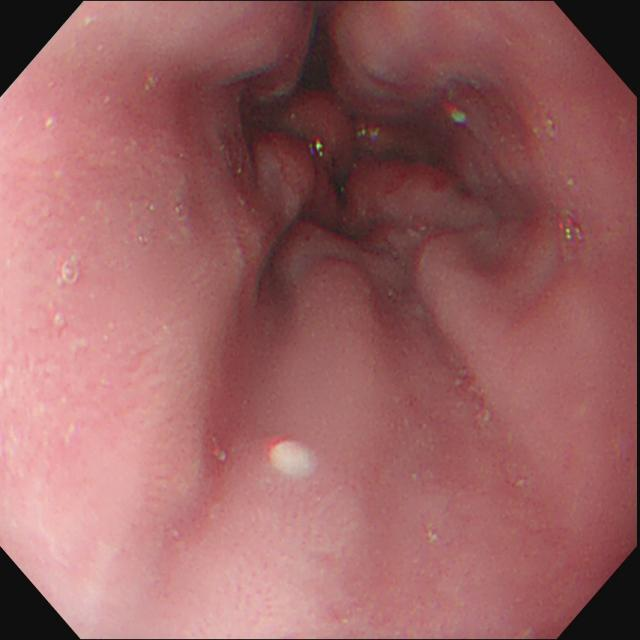I: (226, 32, 484, 266)
J: (269, 442, 321, 480)
U: (311, 140, 324, 156)
